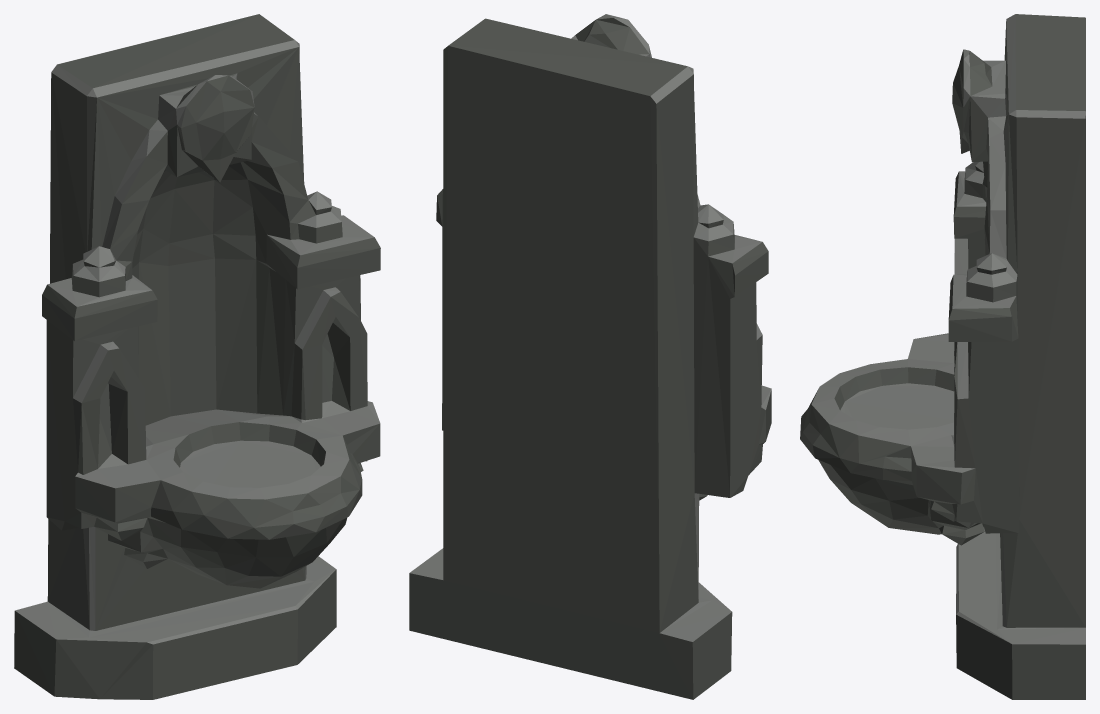
The model's file is MDungeon_Altar_01.FBX.
3 views of the same model, side by side, from view 1: azimuth 30°, elevation 25°; view 2: azimuth 150°, elevation 25°; view 3: azimuth 270°, elevation 25° (orthographic). The views are drawn at different scales.
Parts seen in each view (by area): view 1: MDungeon_Altar_01_LOD0; view 2: MDungeon_Altar_01_LOD0; view 3: MDungeon_Altar_01_LOD0.
Boxes of the visible parts, x1,y1,x2,y2 form: MDungeon_Altar_01_LOD0: [14, 14, 380, 699]; MDungeon_Altar_01_LOD0: [409, 14, 771, 699]; MDungeon_Altar_01_LOD0: [800, 14, 1085, 699].
Size of what is drawn, in the model's own units: 1.22 by 2.32 by 1.04.
